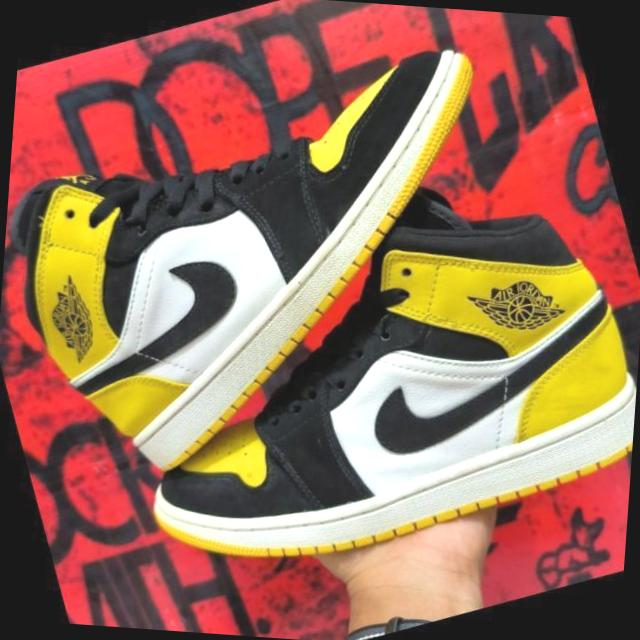nike_fake_jordan: (0, 4, 585, 529), (73, 140, 640, 629)
